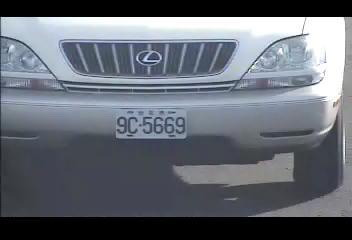plate: (114, 108, 188, 140)
